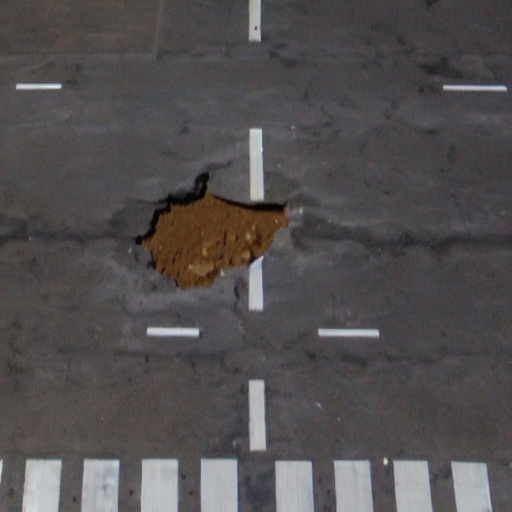0: (202, 65, 276, 106)
1: (315, 118, 363, 181)
hole: (185, 141, 221, 170)
